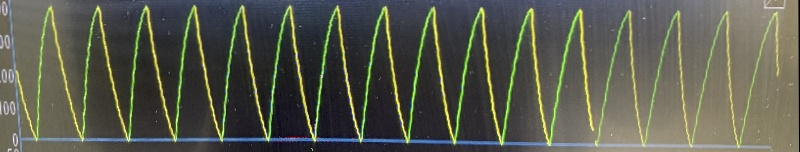normal_volume: (28, 2, 748, 149)
